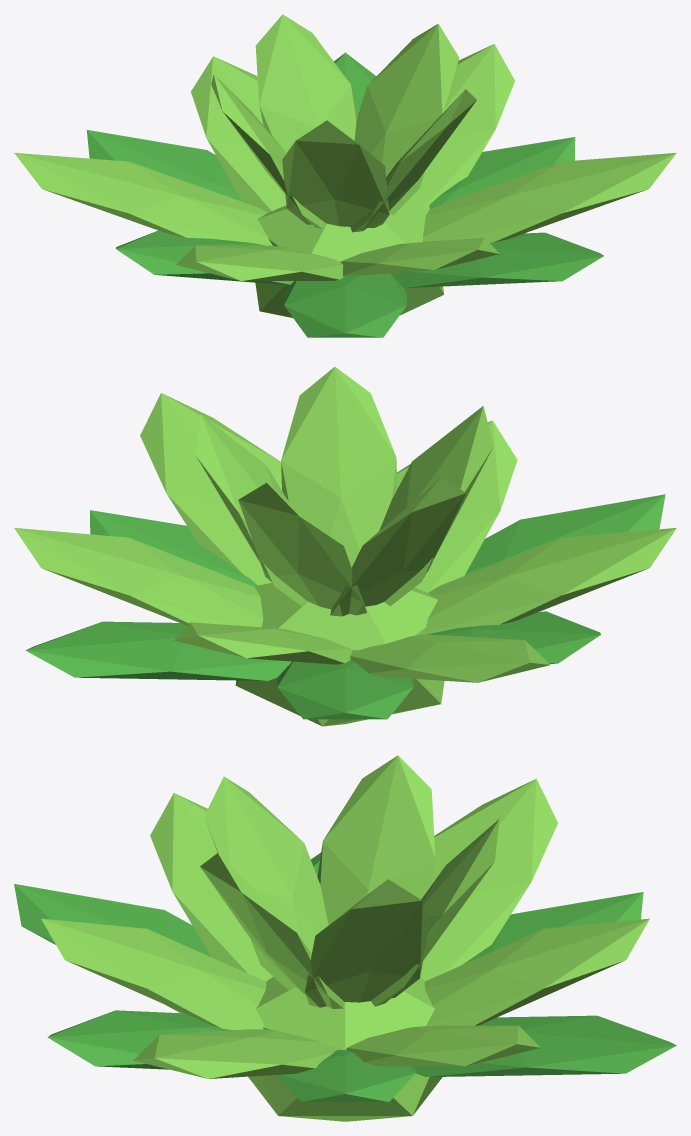
File: Lettuce.glb
3 views of the same model, one above another, from view 1: azimuth 30°, elevation 25°; view 2: azimuth 150°, elevation 25°; view 3: azimuth 270°, elevation 25° (orthographic). The views are drawn at different scales.
Parts seen in each view (by area): view 1: FTF_Plant_Lettuce_Mature_Mesh; view 2: FTF_Plant_Lettuce_Mature_Mesh; view 3: FTF_Plant_Lettuce_Mature_Mesh.
Boxes of the visible parts, <box> form: FTF_Plant_Lettuce_Mature_Mesh: <box>14,14,676,337</box>; FTF_Plant_Lettuce_Mature_Mesh: <box>14,367,676,726</box>; FTF_Plant_Lettuce_Mature_Mesh: <box>14,755,676,1121</box>.
Size of the model in its own units: 1.03 by 0.5267 by 1.04.
